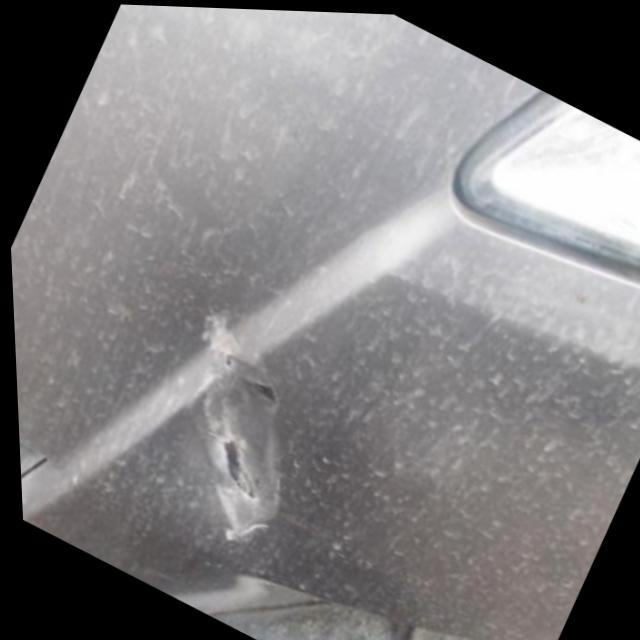scratch: (183, 303, 282, 547)
